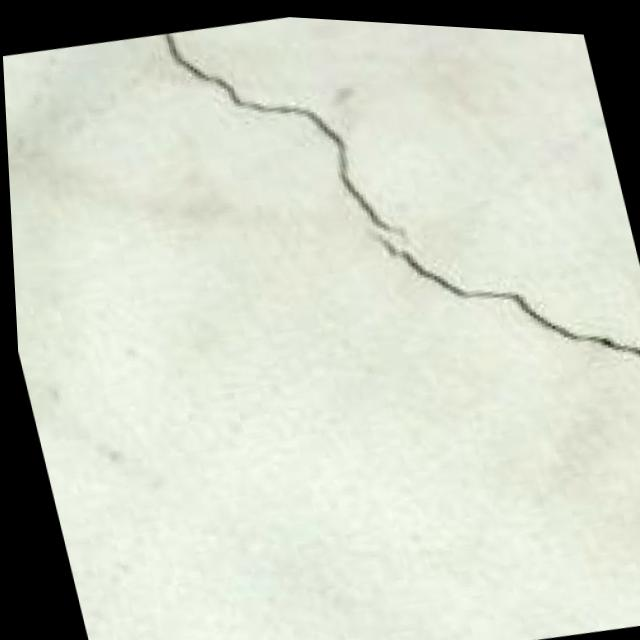Crack: (123, 6, 640, 492)
